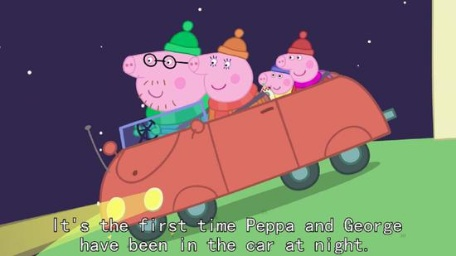Peppa: (275, 31, 320, 91)
